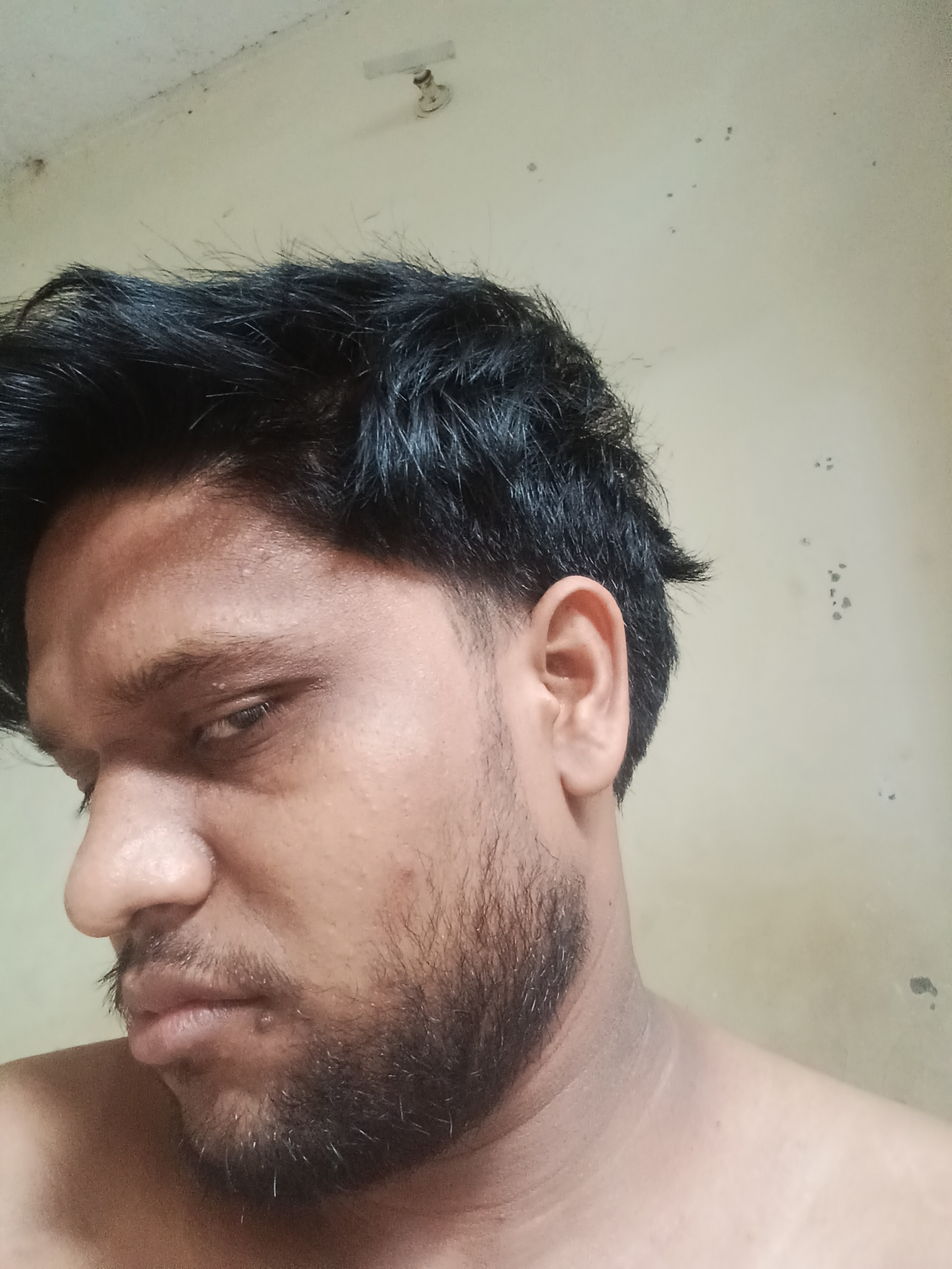closed_comedone: (220, 611, 251, 625), (109, 619, 136, 633), (277, 620, 303, 628), (350, 831, 368, 840), (337, 879, 350, 891), (133, 649, 147, 660), (399, 792, 407, 811), (349, 826, 359, 841), (401, 794, 409, 812), (238, 569, 252, 579), (408, 746, 416, 761), (359, 868, 367, 882), (129, 618, 137, 632), (131, 649, 143, 658), (370, 802, 378, 815), (365, 761, 370, 781), (362, 791, 371, 801), (107, 625, 118, 633), (342, 765, 351, 774), (360, 868, 367, 877), (370, 806, 378, 813), (343, 767, 351, 772), (364, 794, 368, 799)
